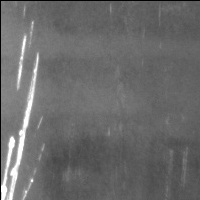scratches: (1, 53, 43, 200), (11, 30, 32, 94)
